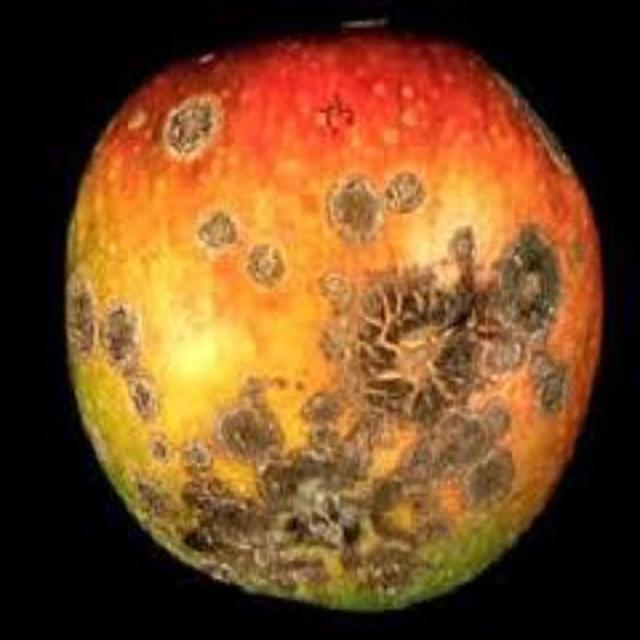Rotten Apple: (42, 49, 626, 637)
